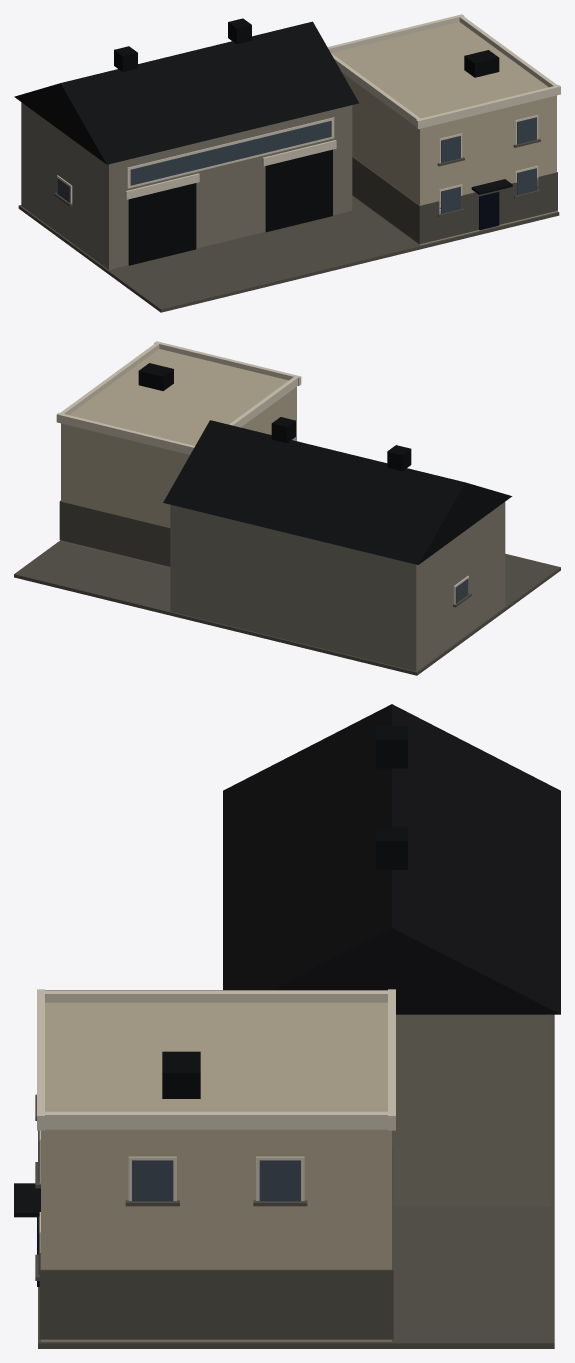
File: building_shed.glb
3 renders of one model, top to bottom at view 1: azimuth 30°, elevation 25°; view 2: azimuth 150°, elevation 25°; view 3: azimuth 270°, elevation 25°, orthographic. The views are drawn at different scales.
Parts seen in each view (by area): view 1: shed; view 2: shed; view 3: shed.
Part boxes in pixels (box(x1,y1,x2,y2)): shed: box(14, 14, 560, 312); shed: box(14, 341, 560, 675); shed: box(14, 704, 560, 1348).
Size of the model in its own units: 26.5 by 11 by 17.15.
Materials: 2 (1 with a texture image).
